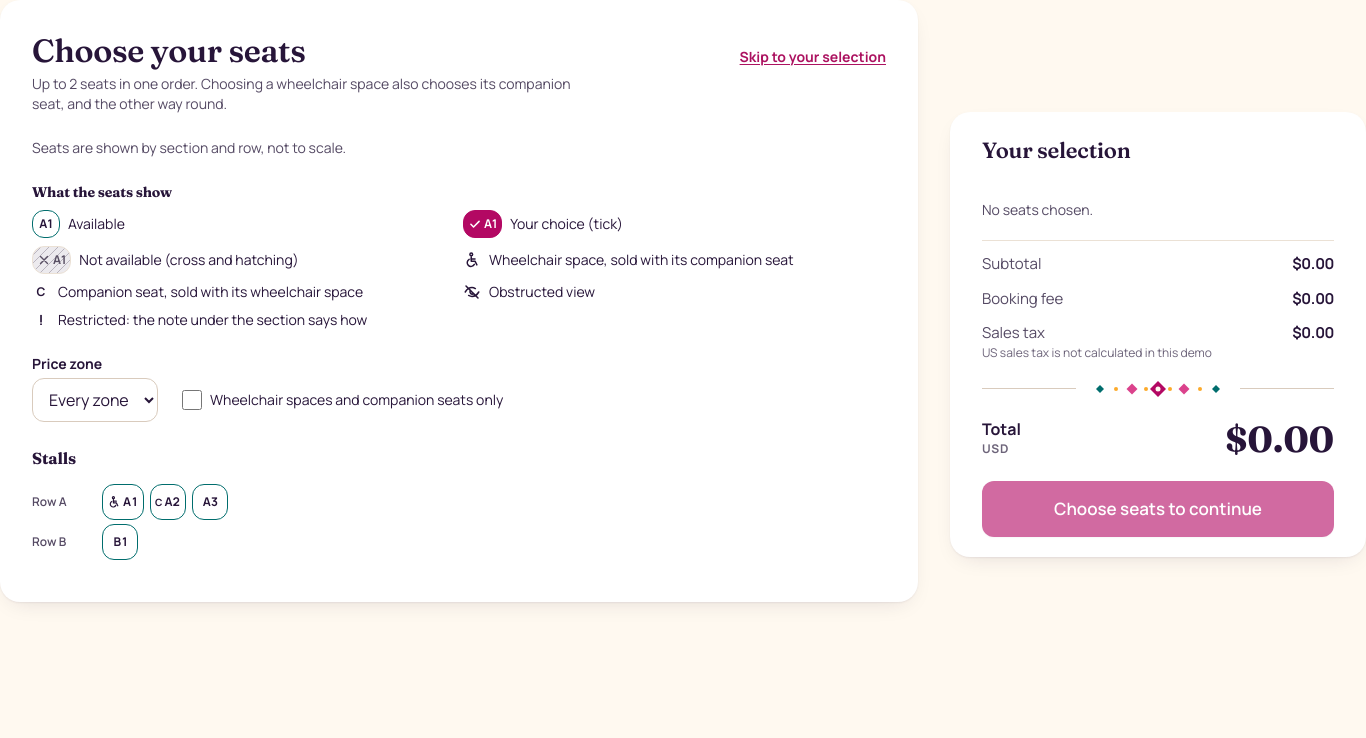
choosing seats › refuses a seat past the order’s limit, and says so
Click the button "A1". click: x=123, y=502
box: x1=102 y1=484 x2=144 y2=520
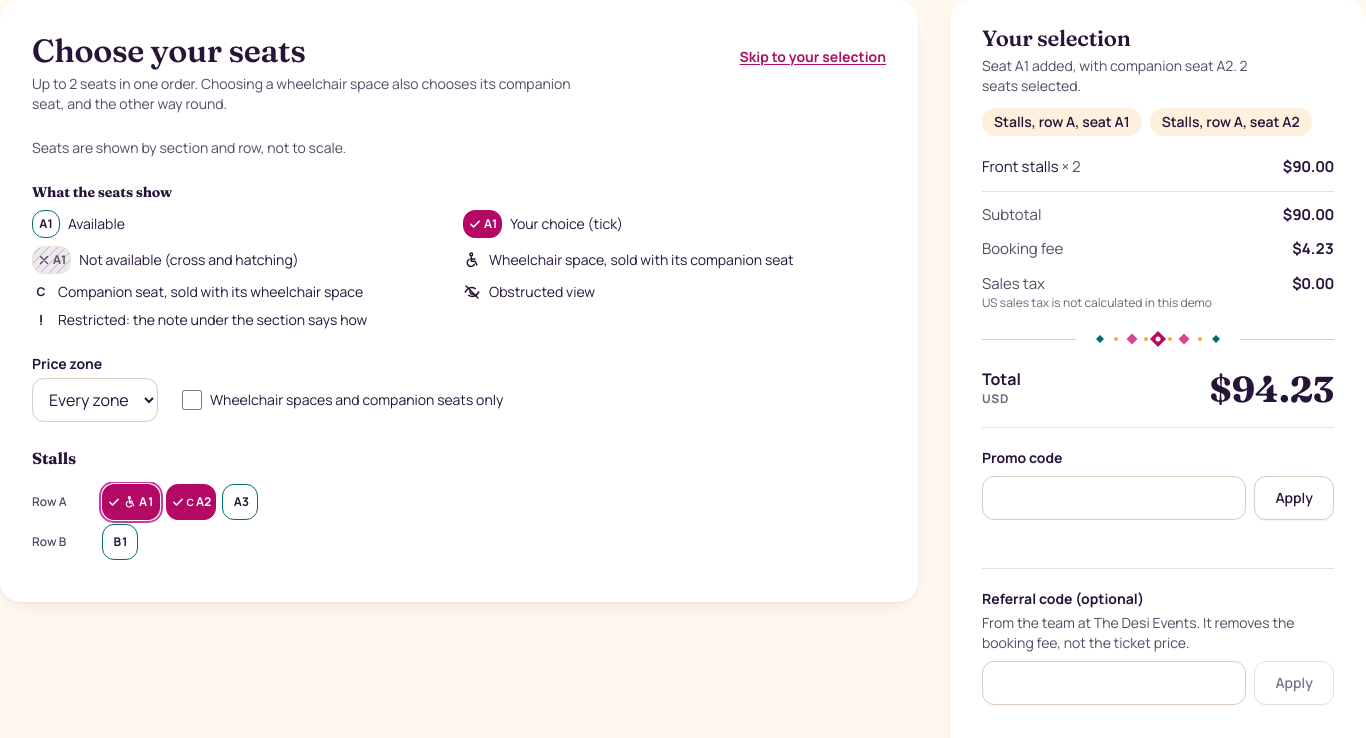
Click the button "B1". click: x=120, y=542
box: x1=102 y1=524 x2=138 y2=560
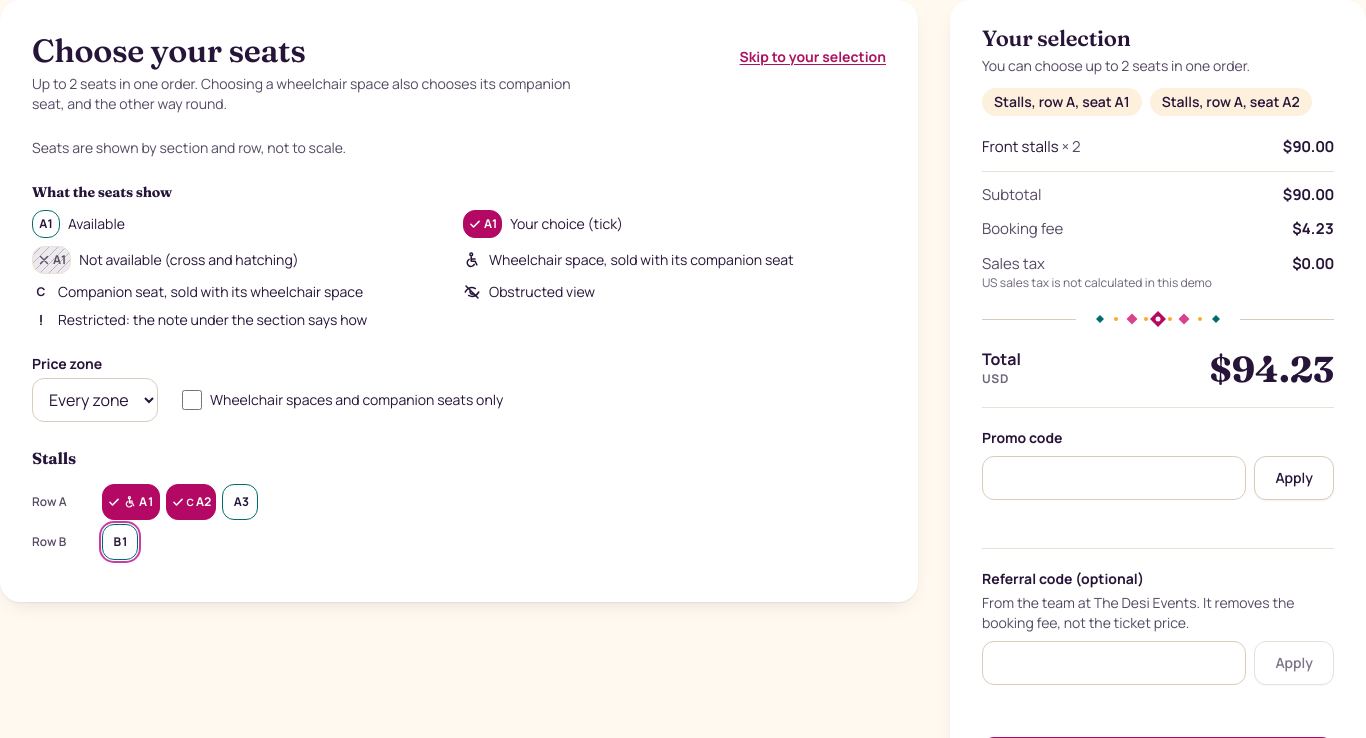
Expected: the text "You can choose up to 2 seats in one order." is shown, x1=982 y1=56 x2=1250 y2=75
